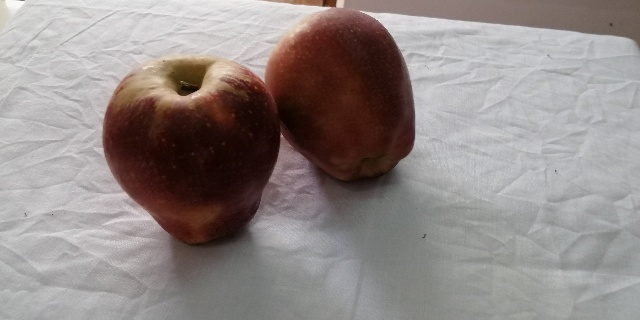apple_kashmir: (104, 50, 275, 249), (263, 7, 417, 184)
